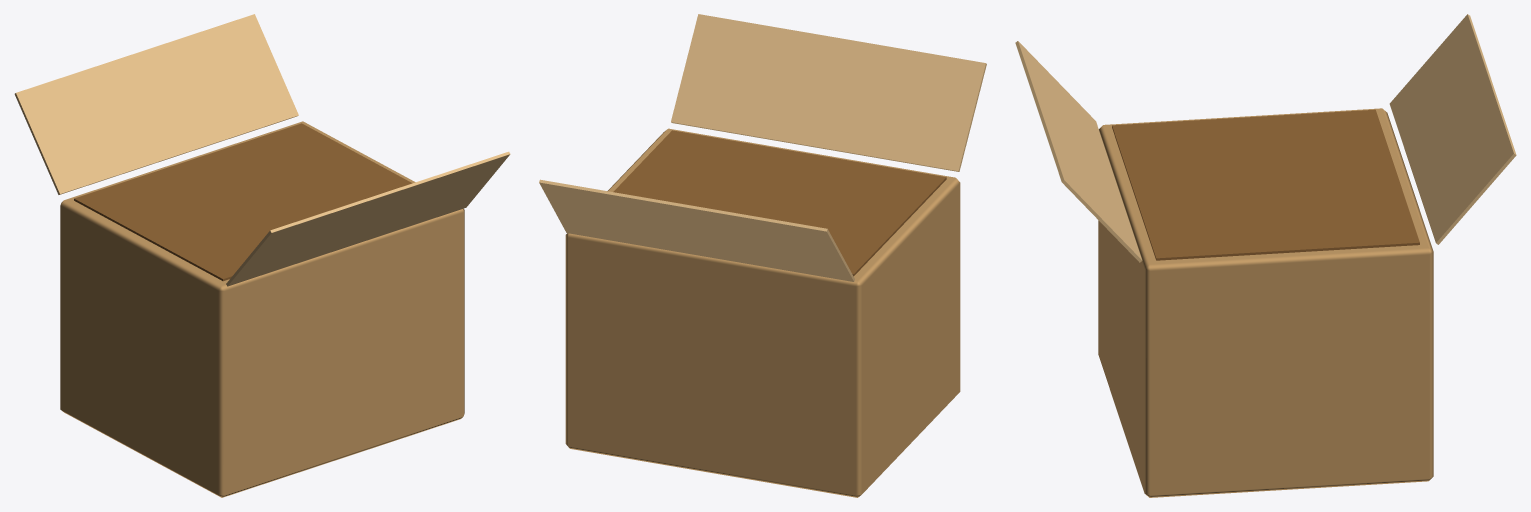
The model's file is station_special_ausstattung_2_0.glb.
3 renders of one model, left to right at view 1: azimuth 30°, elevation 25°; view 2: azimuth 150°, elevation 25°; view 3: azimuth 270°, elevation 25°, orthographic. The views are drawn at different scales.
Visible parts, largest first — view 1: station_special_ausstattung_2_0; view 2: station_special_ausstattung_2_0; view 3: station_special_ausstattung_2_0.
Part boxes in pixels (x1,y1,x2,y2): station_special_ausstattung_2_0: [14, 14, 510, 497]; station_special_ausstattung_2_0: [539, 14, 986, 497]; station_special_ausstattung_2_0: [1015, 14, 1516, 497].
Size of the model in its own units: 0.4586 by 0.4147 by 0.5834.
